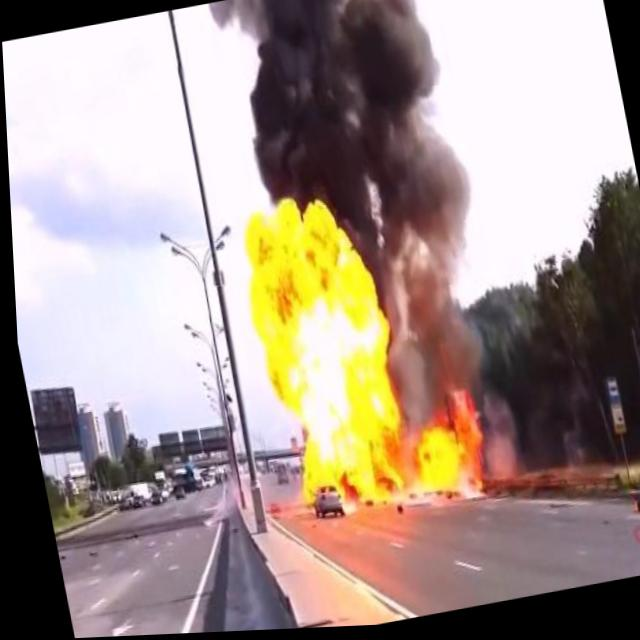fire: (226, 170, 492, 535)
